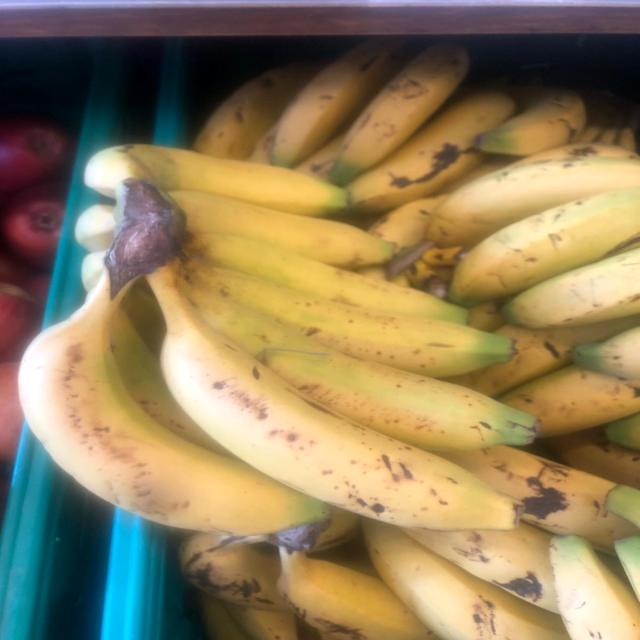banana: (21, 148, 536, 550), (138, 248, 542, 531)
